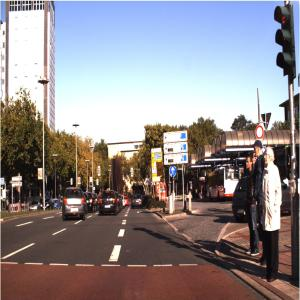go straight: (170, 165, 177, 178)
no traffic both ways: (256, 126, 265, 140)
